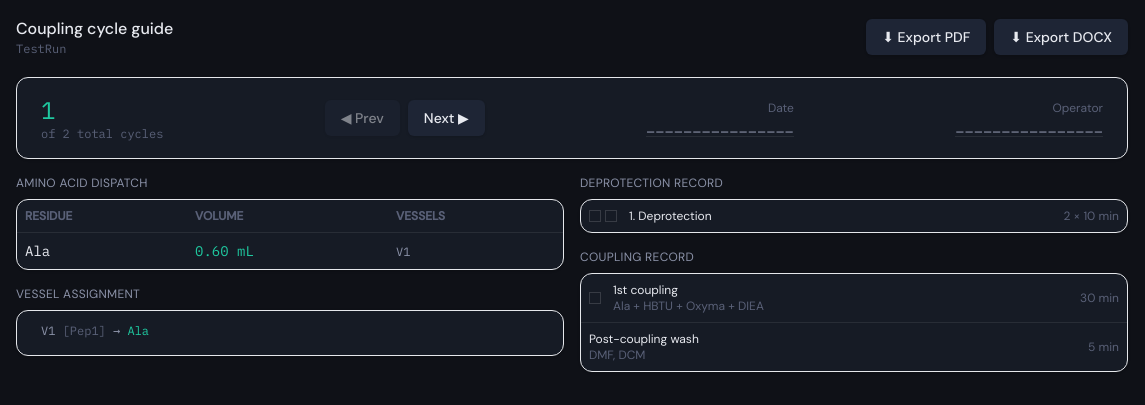
Test: CycleGuide › shows an error message when opening the exported file fails
Expected: the text "TestRun" is shown, x1=16 y1=41 x2=66 y2=56
Click the button "⬇ Export PDF".
click(926, 37)  # box x1=866 y1=19 x2=986 y2=55
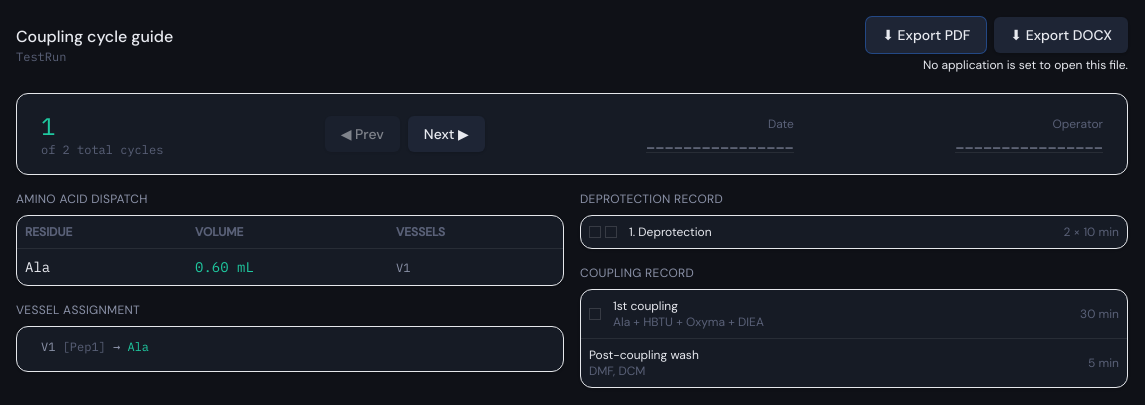
Now the text "No application is set to open this file." is shown, box x1=923 y1=57 x2=1128 y2=73
